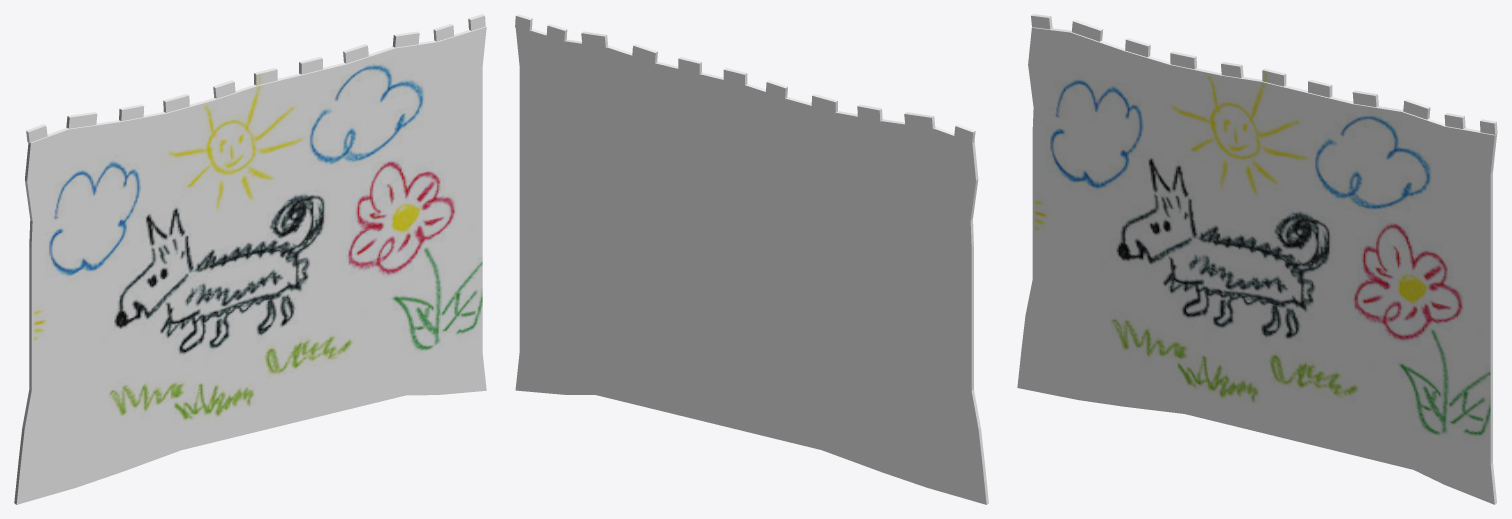
Rendered from drawing3.fbx.
The picture shows the model from 3 angles, left to right: view 1: azimuth 30°, elevation 25°; view 2: azimuth 150°, elevation 25°; view 3: azimuth 330°, elevation 25°; orthographic projection.
Parts seen in each view (by area): view 1: polySurface133; view 2: polySurface133; view 3: polySurface133.
Part boxes in pixels (x1,y1,x2,y2): polySurface133: (14, 14, 486, 504); polySurface133: (515, 14, 988, 504); polySurface133: (1017, 14, 1497, 504).
Size of the model in its own units: 16.87 by 12.88 by 0.1906.
1 material, 1 textured.
